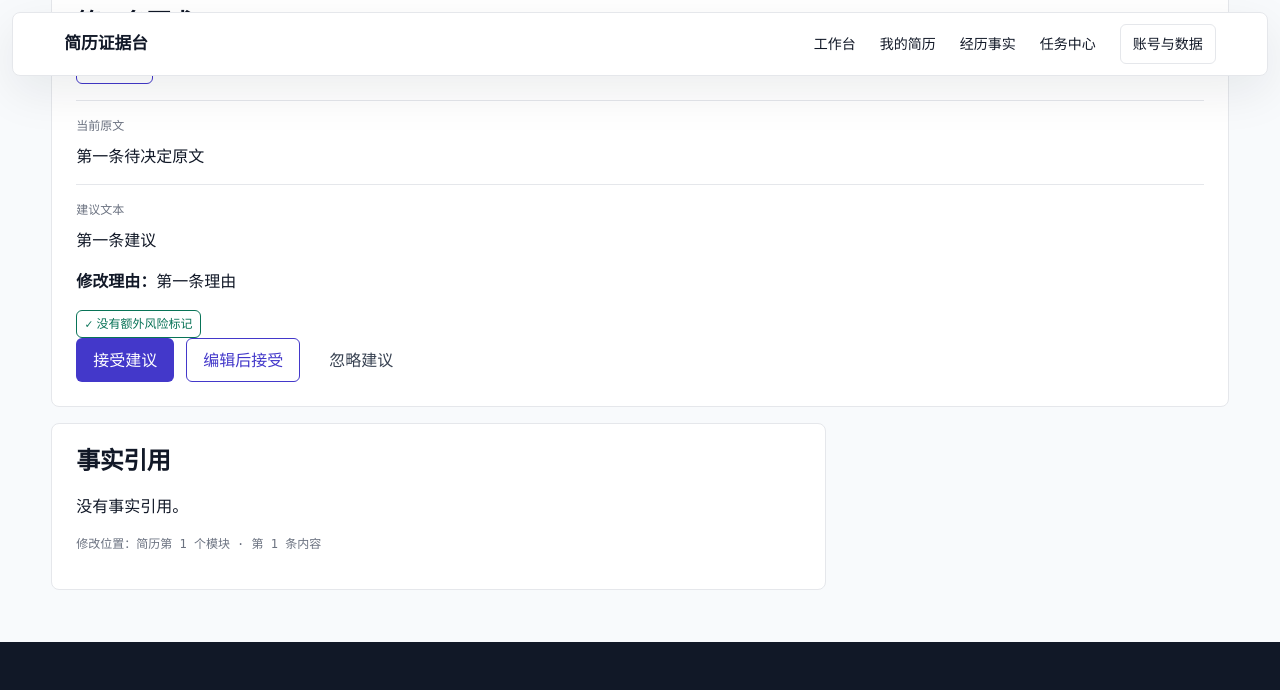
V2 real workflow pages › keeps each suggestion's returned decision status while navigating
The width and height of the screenshot is (1280, 690).
(page scrolled)
Expected: the text "模型建议" is shown, [96,60,144,79]
Click the button "接受建议": (125, 360) [76,338,174,382]
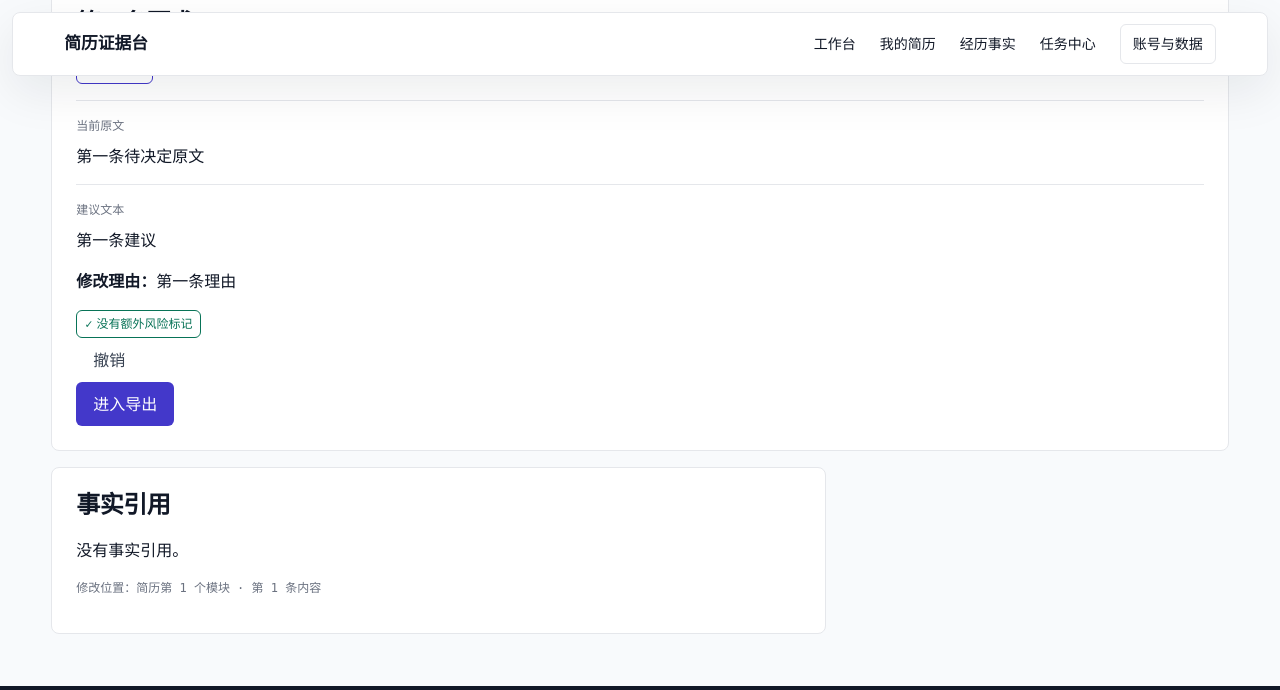
Expected: the button "撤销" is enabled, [76,338,142,382]
Expected: the button "接受建议" is gone
Press a
(page scrolled)
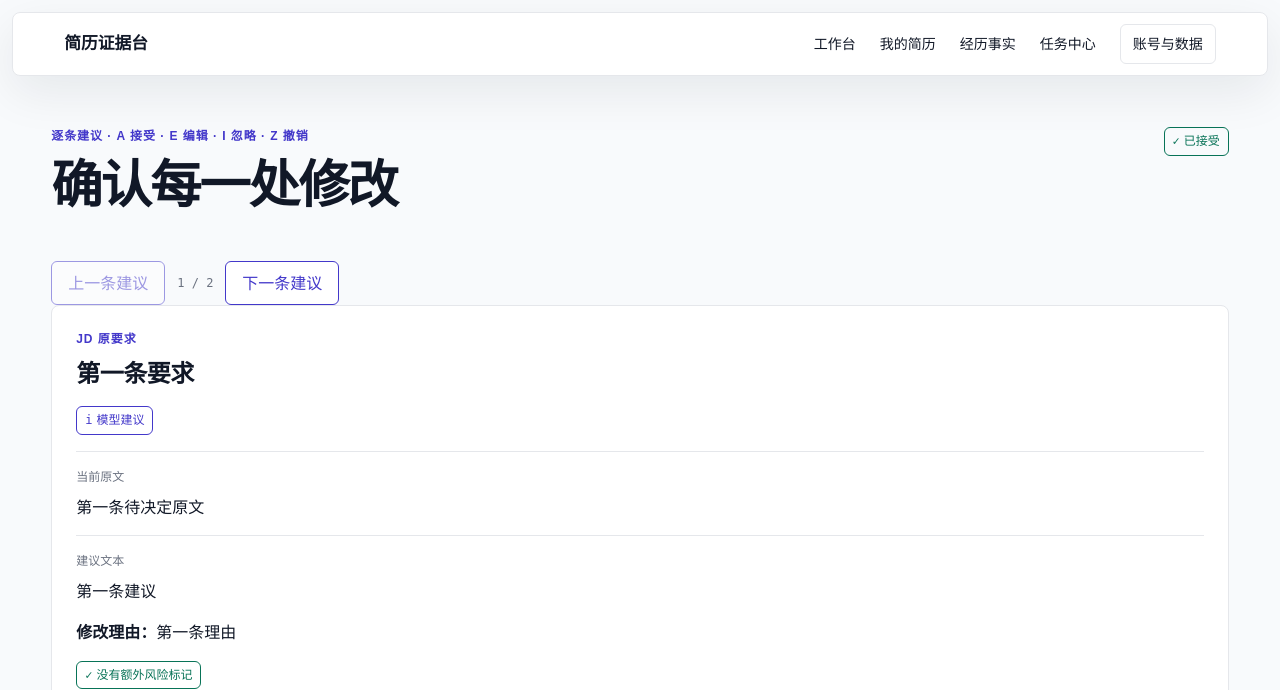
Click the button "下一条建议": (282, 283) [225,261,339,305]
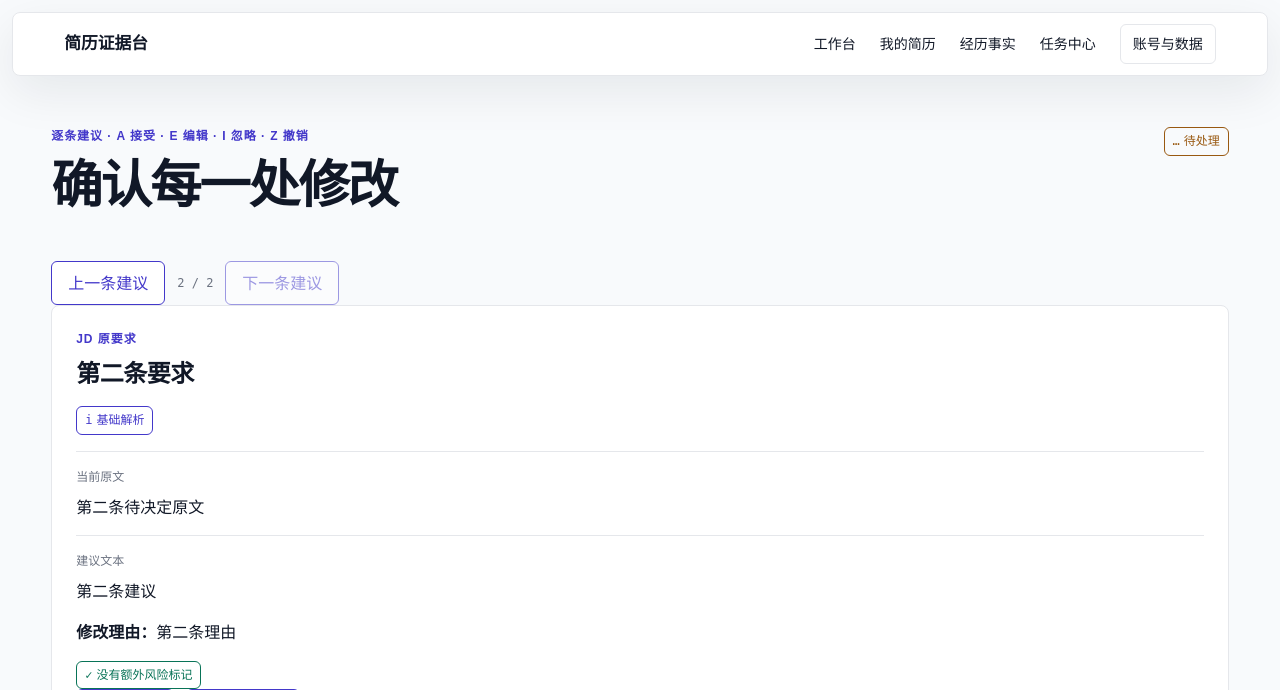
Expected: the text "基础解析" is shown, [96,412,144,430]
Click the button "上一条建议": (108, 283) [51,261,165,305]
(page scrolled)
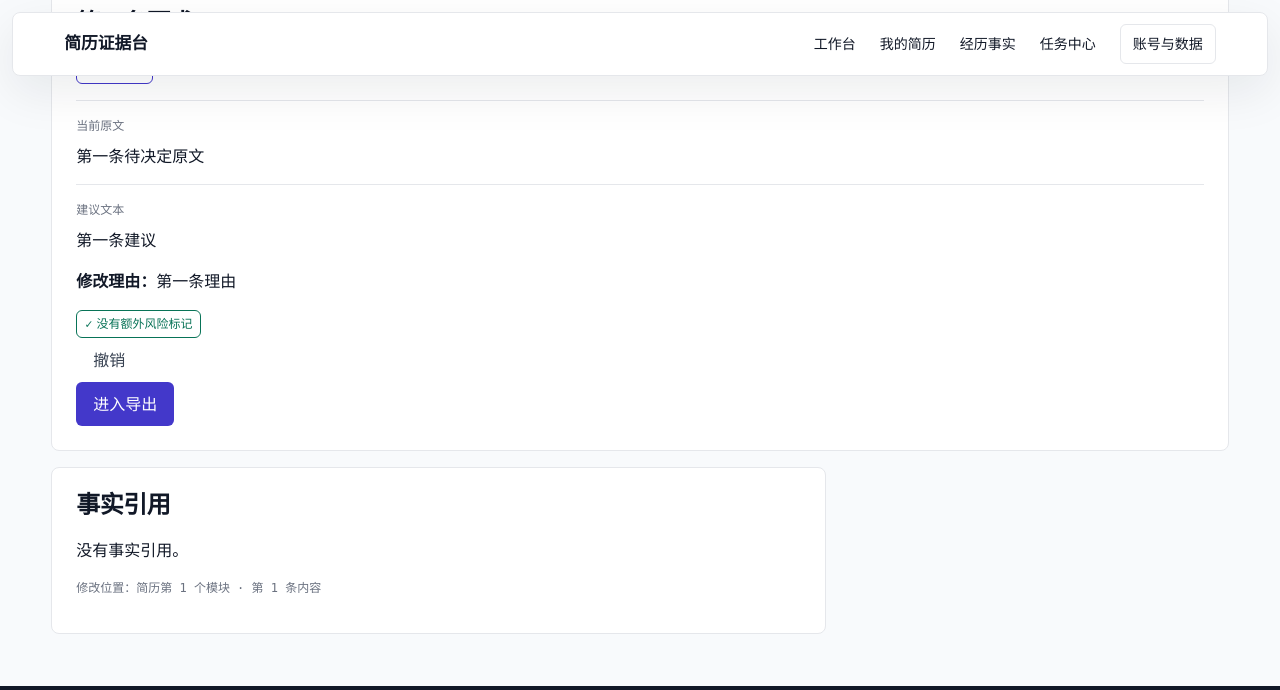
Expected: the button "撤销" is enabled, [76,338,142,382]
Expected: the text "第一条待决定原文" is shown, [76,146,204,166]
